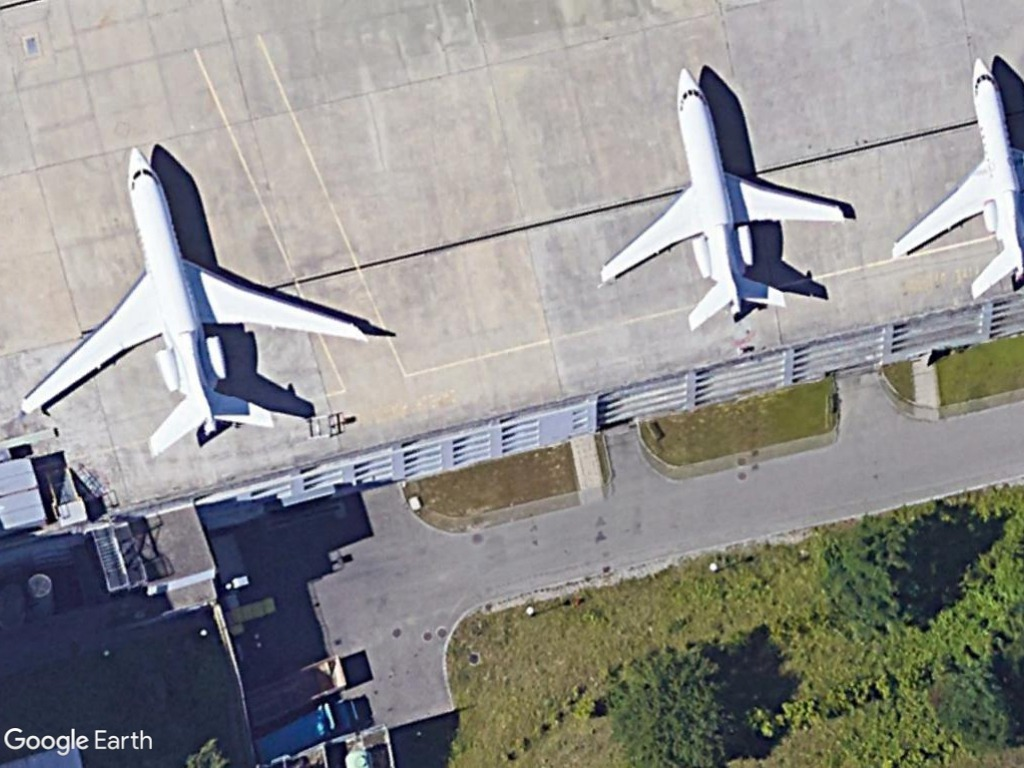chartered: (12, 141, 369, 462), (591, 62, 854, 336)
